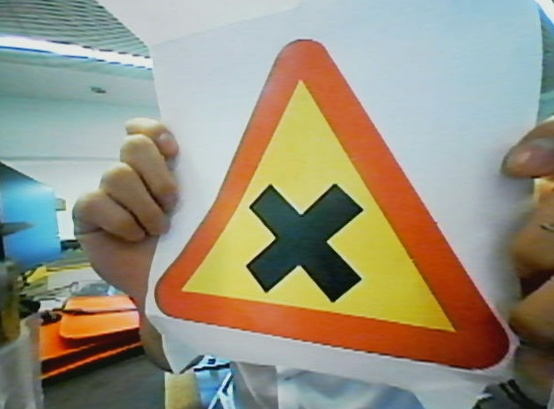junction: (166, 39, 514, 371)
